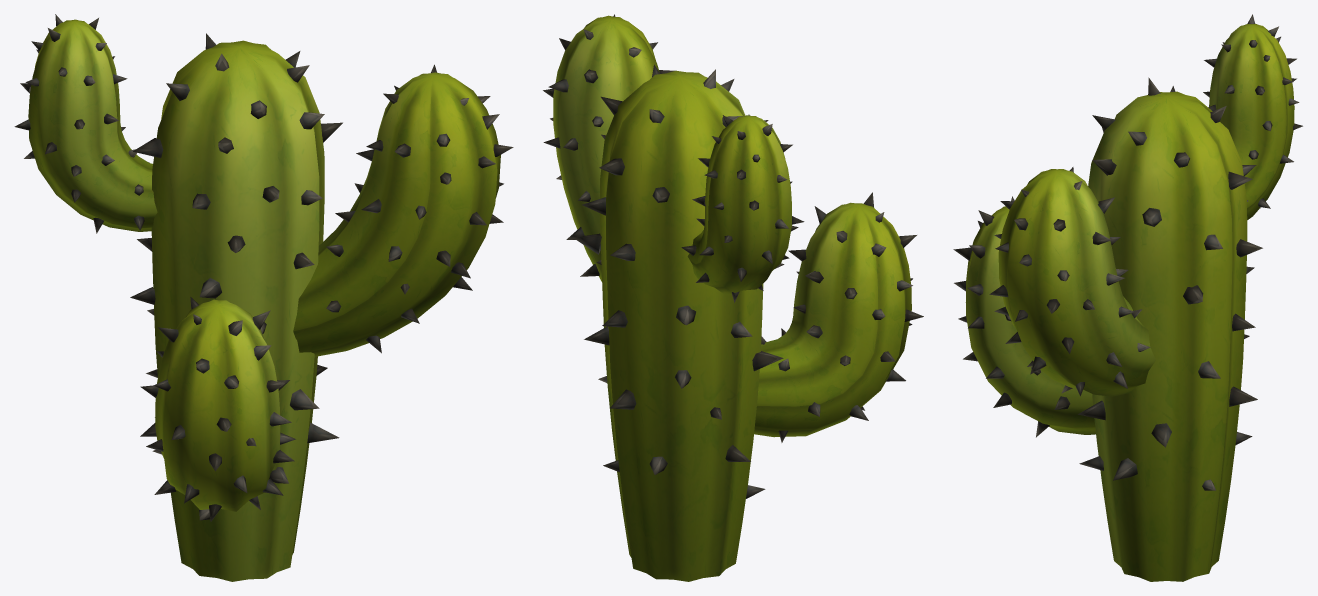
File: DE_Cactus_23.fbx
The picture shows the model from 3 angles, left to right: view 1: azimuth 30°, elevation 25°; view 2: azimuth 150°, elevation 25°; view 3: azimuth 270°, elevation 25°; orthographic projection. The views are drawn at different scales.
Parts seen in each view (by area): view 1: DE_Cactus_23; view 2: DE_Cactus_23; view 3: DE_Cactus_23.
Part boxes in pixels (box(x1,y1,x2,y2)): DE_Cactus_23: box(14, 14, 513, 581); DE_Cactus_23: box(543, 14, 923, 581); DE_Cactus_23: box(953, 14, 1302, 581).
Bounding box in the file's own units: 3.71 × 5.05 × 3.32.
